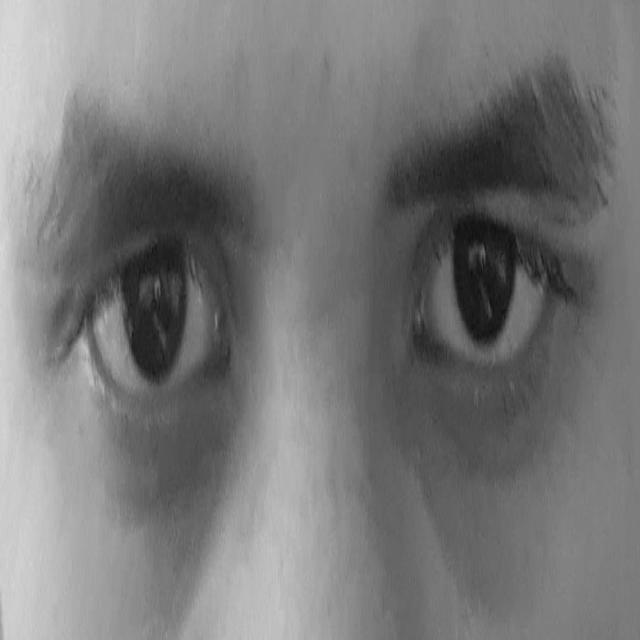real: (45, 99, 620, 537)
